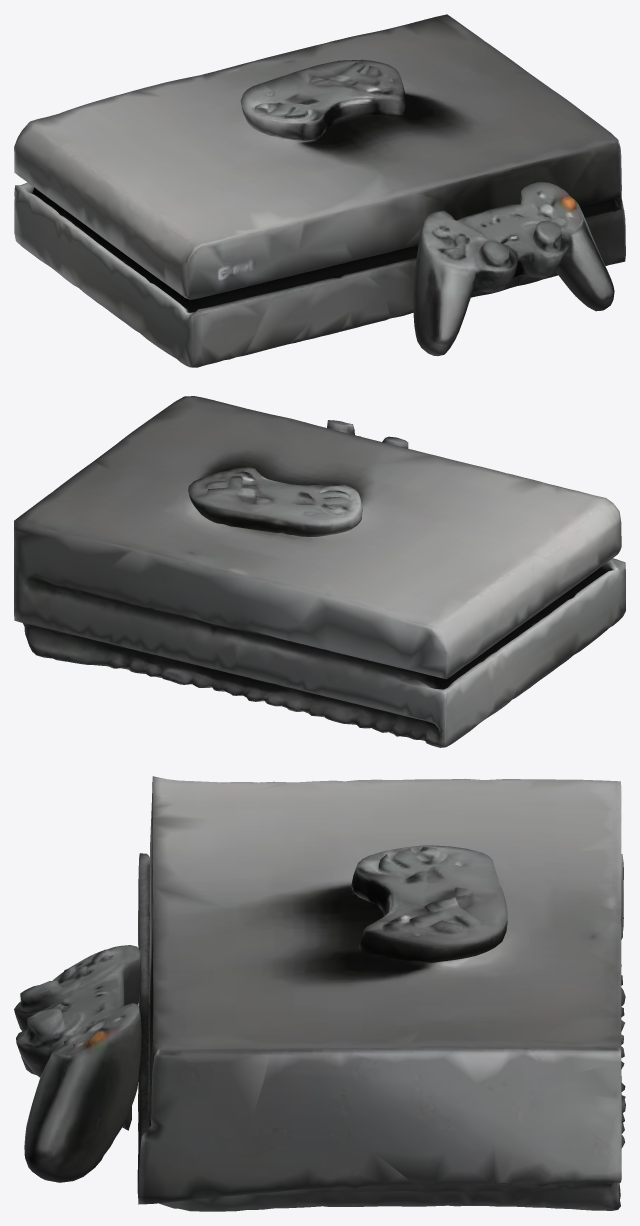
Rendered from 20_tv_devices_set_top_box.glb.
The picture shows the model from 3 angles, top to bottom: view 1: azimuth 30°, elevation 25°; view 2: azimuth 150°, elevation 25°; view 3: azimuth 270°, elevation 25°; orthographic projection. The views are drawn at different scales.
Parts seen in each view (by area): view 1: geometry_0; view 2: geometry_0; view 3: geometry_0.
Part boxes in pixels (<box>): geometry_0: <box>14,14,625,367</box>; geometry_0: <box>14,396,625,747</box>; geometry_0: <box>14,776,625,1211</box>.
Size of the model in its own units: 1.9 by 0.648 by 1.71.
1 material, 1 textured.
